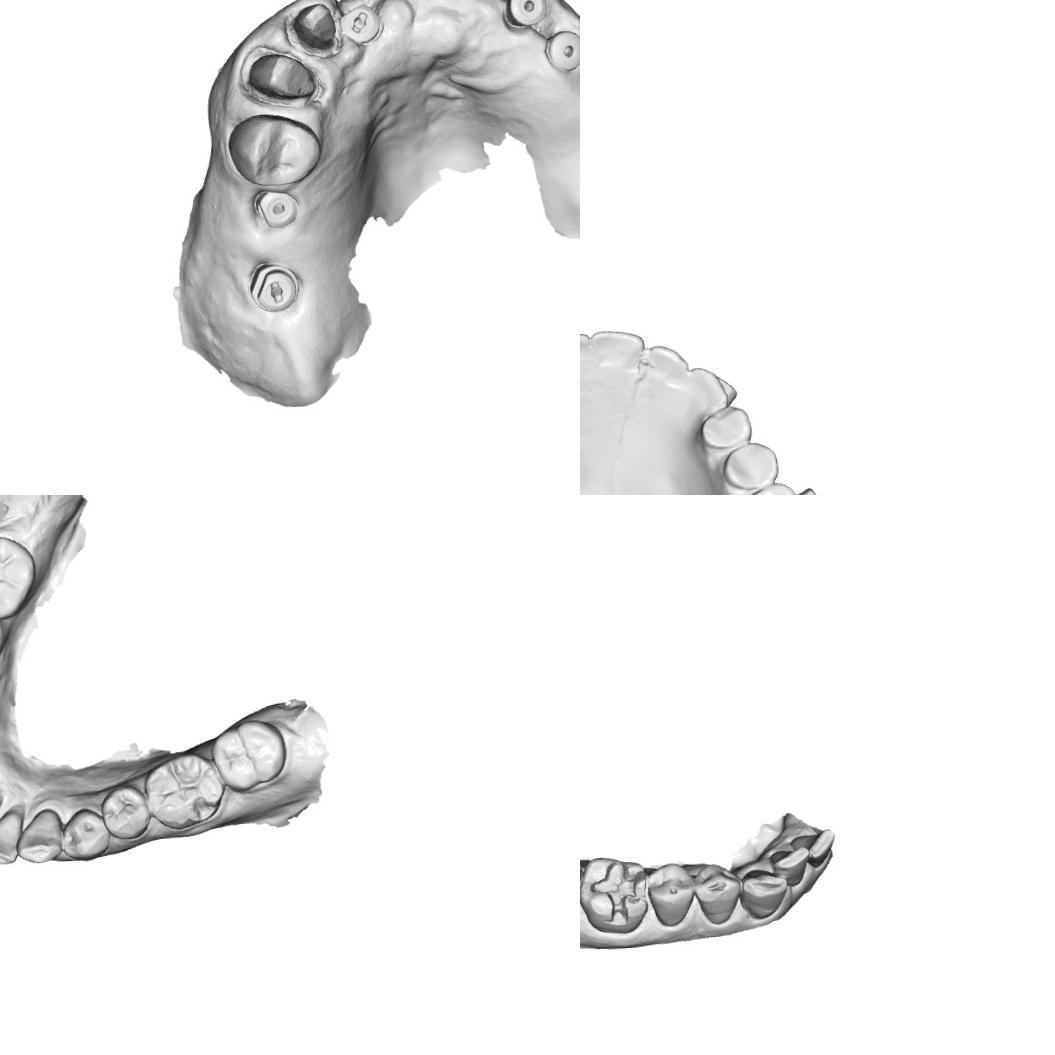canine: (14, 806, 64, 864), (738, 866, 790, 921), (686, 364, 730, 414)
crown: (241, 48, 321, 110), (286, 0, 341, 56)
implant: (257, 190, 300, 230), (544, 27, 580, 74), (500, 0, 551, 31)
implant_minus: (248, 262, 302, 310), (340, 3, 384, 46)
incisor: (588, 328, 646, 376), (642, 343, 690, 382), (791, 828, 837, 868), (769, 846, 810, 888), (0, 807, 24, 865), (580, 331, 592, 383)
inlay: (587, 858, 648, 926)
molar: (140, 750, 228, 832), (210, 718, 288, 792), (0, 533, 38, 623)
premolar: (223, 109, 325, 190), (645, 860, 697, 930), (692, 861, 744, 926), (98, 782, 152, 842), (697, 403, 754, 459), (720, 440, 780, 492), (58, 806, 112, 863)
